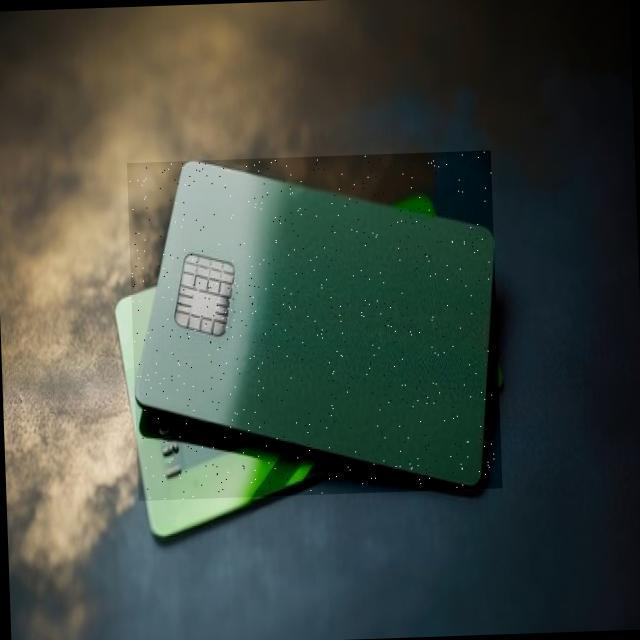payment_card: (130, 153, 496, 492)
